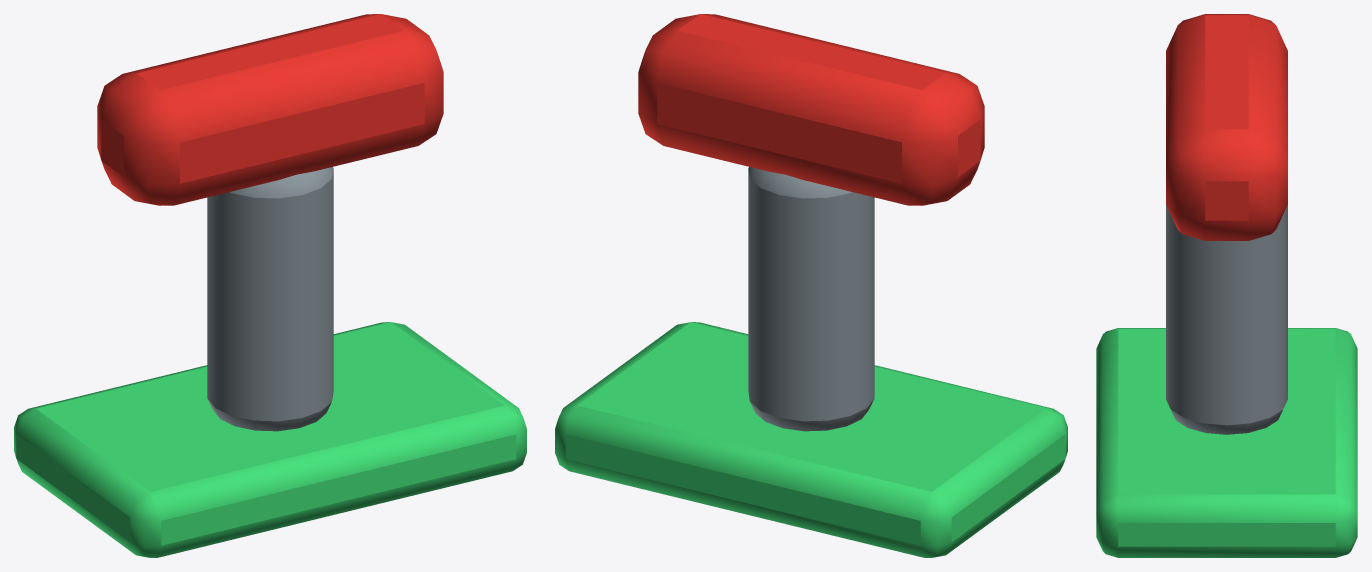
The model's file is 06_InspectionStamp.fbx.
3 views of the same model, side by side, from view 1: azimuth 30°, elevation 25°; view 2: azimuth 150°, elevation 25°; view 3: azimuth 270°, elevation 25° (orthographic). The views are drawn at different scales.
Visible parts, largest first — view 1: Stamp_Pad, Stamp_Handle, Stamp_Post; view 2: Stamp_Pad, Stamp_Handle, Stamp_Post; view 3: Stamp_Pad, Stamp_Handle, Stamp_Post.
Boxes of the visible parts, bbox=[...] form: Stamp_Pad: bbox=[14, 322, 526, 557]; Stamp_Handle: bbox=[97, 14, 443, 205]; Stamp_Post: bbox=[207, 167, 333, 431]; Stamp_Pad: bbox=[555, 322, 1067, 557]; Stamp_Handle: bbox=[638, 14, 984, 205]; Stamp_Post: bbox=[748, 167, 874, 431]; Stamp_Pad: bbox=[1096, 328, 1357, 557]; Stamp_Handle: bbox=[1166, 14, 1287, 240]; Stamp_Post: bbox=[1166, 204, 1287, 434].
Bounding box in the file's own units: 50 × 51 × 30.
